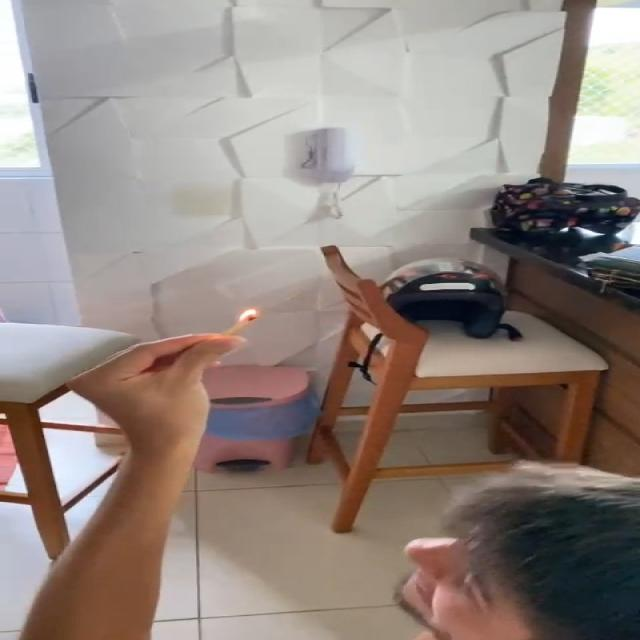fogo-ypXI: (236, 306, 258, 323)
